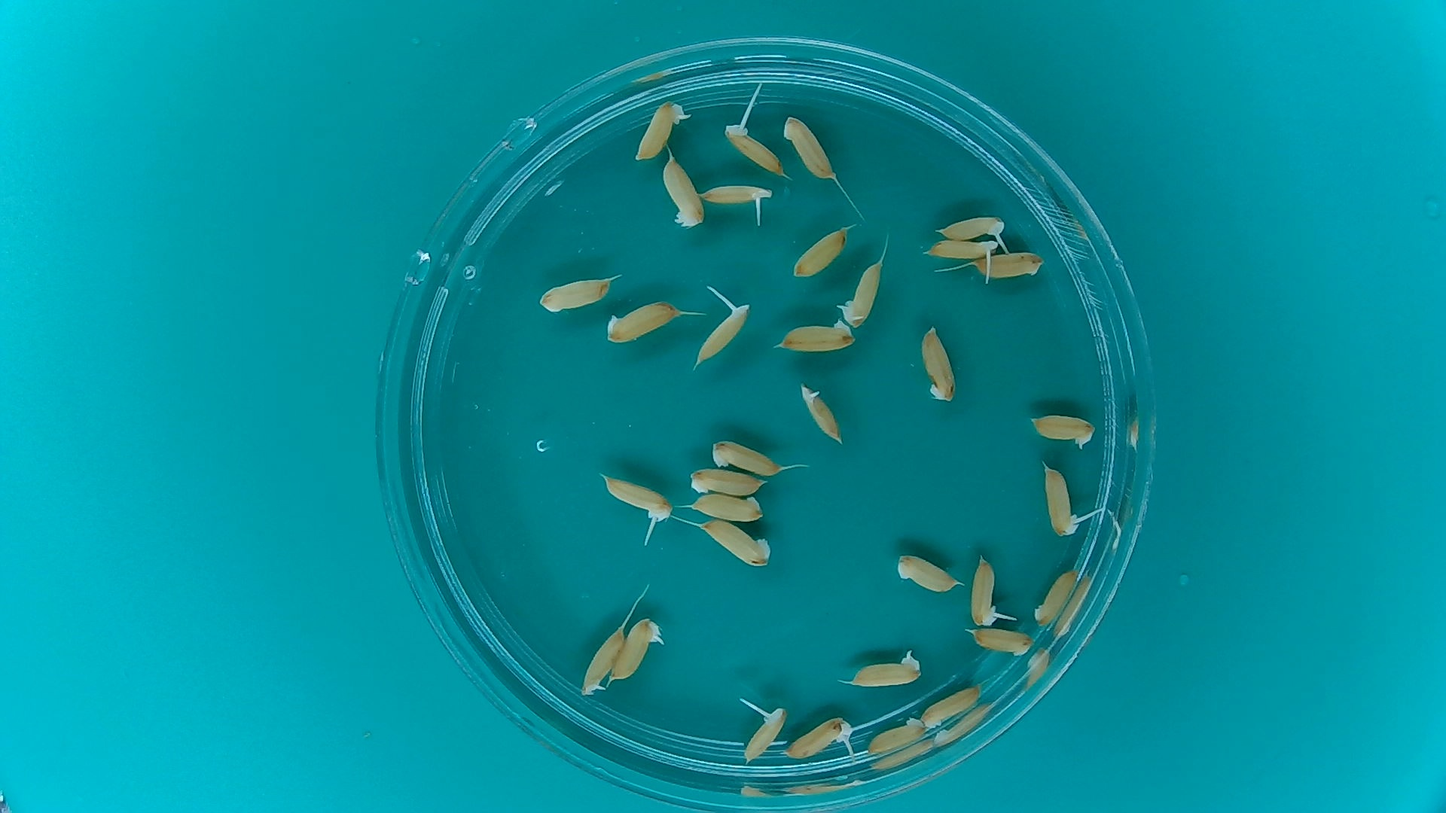no: (779, 111, 837, 182), (603, 299, 685, 346), (697, 518, 773, 568), (918, 320, 961, 406), (661, 153, 706, 231), (535, 272, 615, 315), (791, 224, 850, 279), (920, 680, 986, 729), (772, 316, 857, 354), (892, 551, 962, 594), (1033, 564, 1079, 628), (709, 437, 783, 476), (686, 466, 766, 499), (865, 716, 929, 756), (969, 250, 1046, 282), (689, 494, 765, 524), (967, 626, 1036, 658)
yes: (609, 613, 666, 682), (631, 96, 689, 162), (601, 472, 676, 522), (578, 621, 626, 699), (836, 256, 886, 328), (697, 298, 753, 362), (722, 123, 788, 177), (781, 714, 856, 760), (1039, 467, 1085, 540), (969, 551, 1012, 629), (796, 379, 846, 446), (848, 647, 924, 689), (740, 701, 789, 764), (1027, 411, 1097, 449), (932, 210, 1010, 244), (919, 236, 996, 266), (697, 180, 777, 207)
